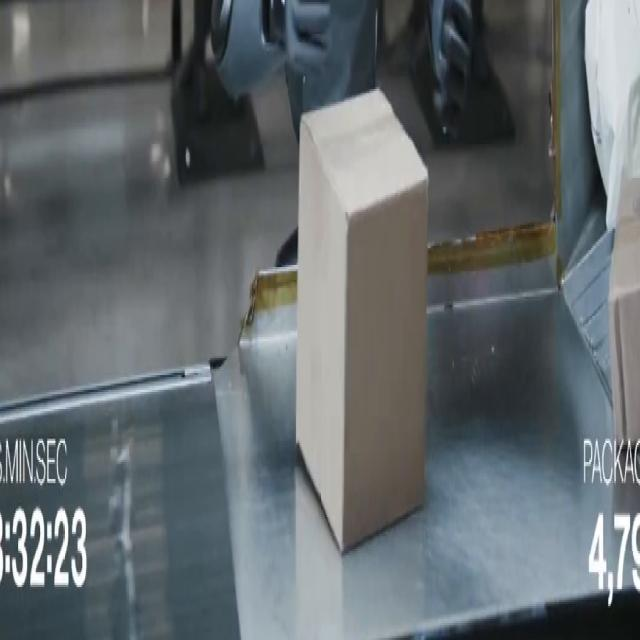package: (296, 90, 427, 550), (585, 0, 639, 230), (609, 181, 639, 442)
